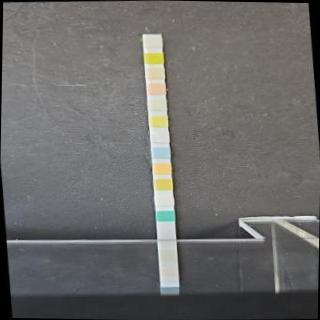mark: (148, 114, 168, 128), (148, 98, 167, 112), (150, 130, 169, 144), (150, 146, 170, 159), (152, 178, 172, 191), (144, 52, 163, 65), (152, 162, 171, 175), (142, 37, 162, 49), (154, 194, 174, 206), (145, 68, 164, 80), (146, 84, 166, 95), (156, 210, 174, 222)
